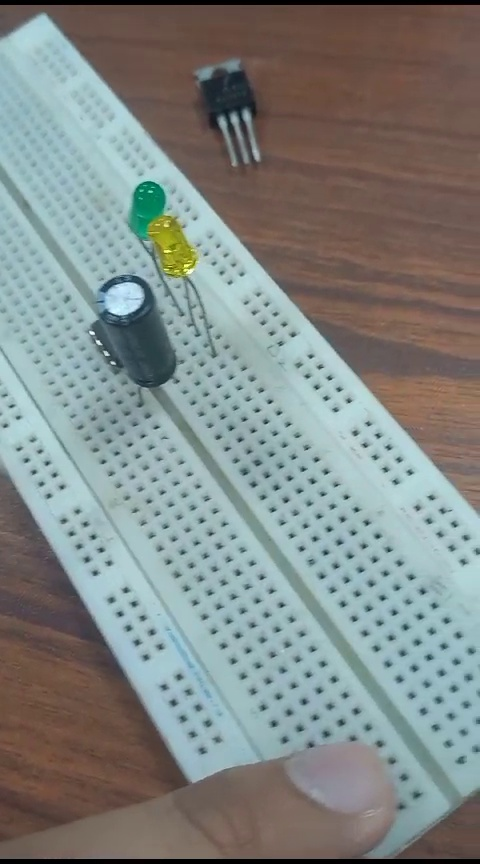LED: (144, 220, 200, 304), (124, 171, 164, 237)
capacitor: (86, 273, 175, 388)
voltage regulator: (187, 56, 264, 168)
